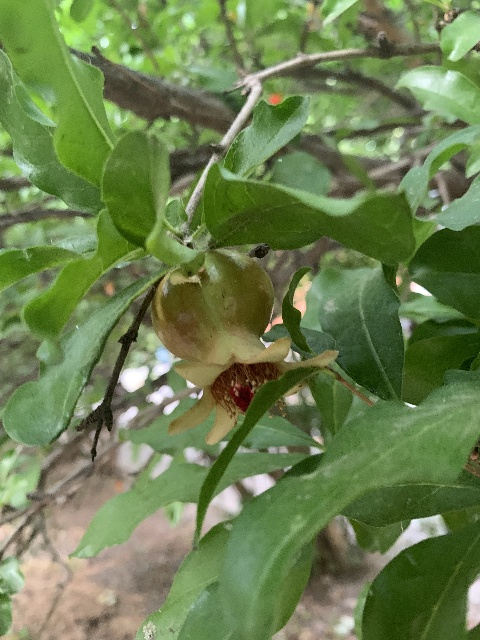early-fruit: (151, 250, 339, 447)
